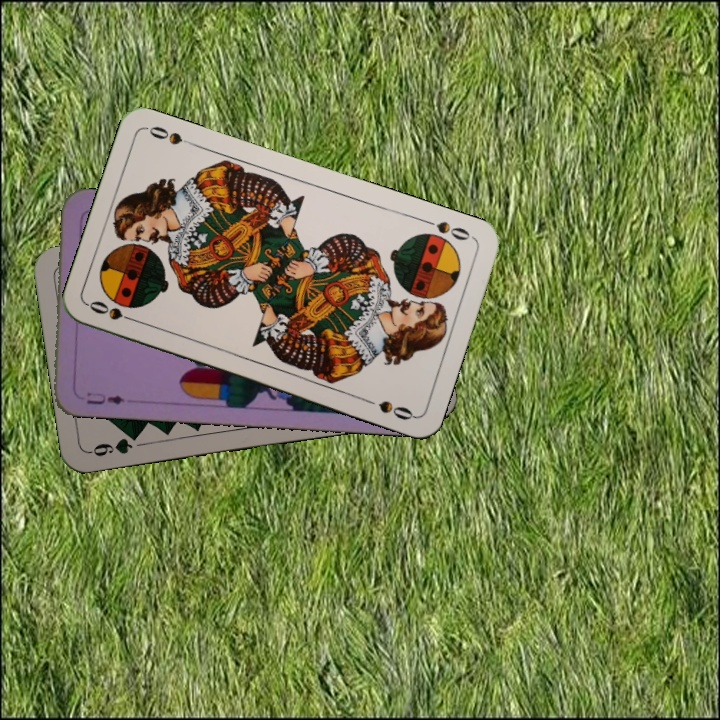EU: (83, 388, 127, 407)
G9: (85, 429, 142, 459)
SO: (85, 296, 142, 326), (419, 215, 476, 243)
